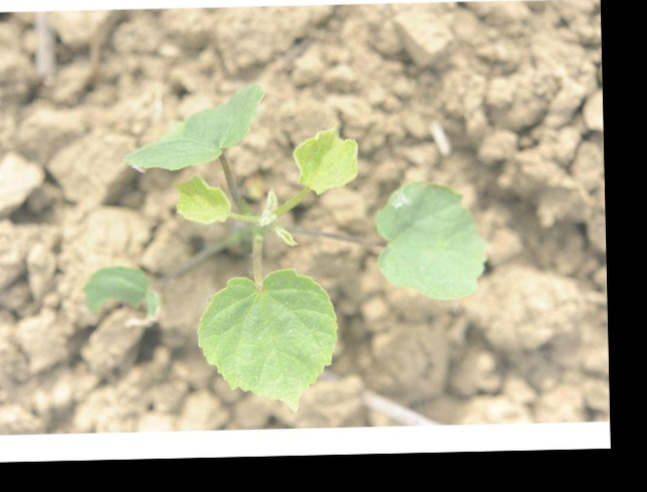velvet: (79, 79, 486, 409)
